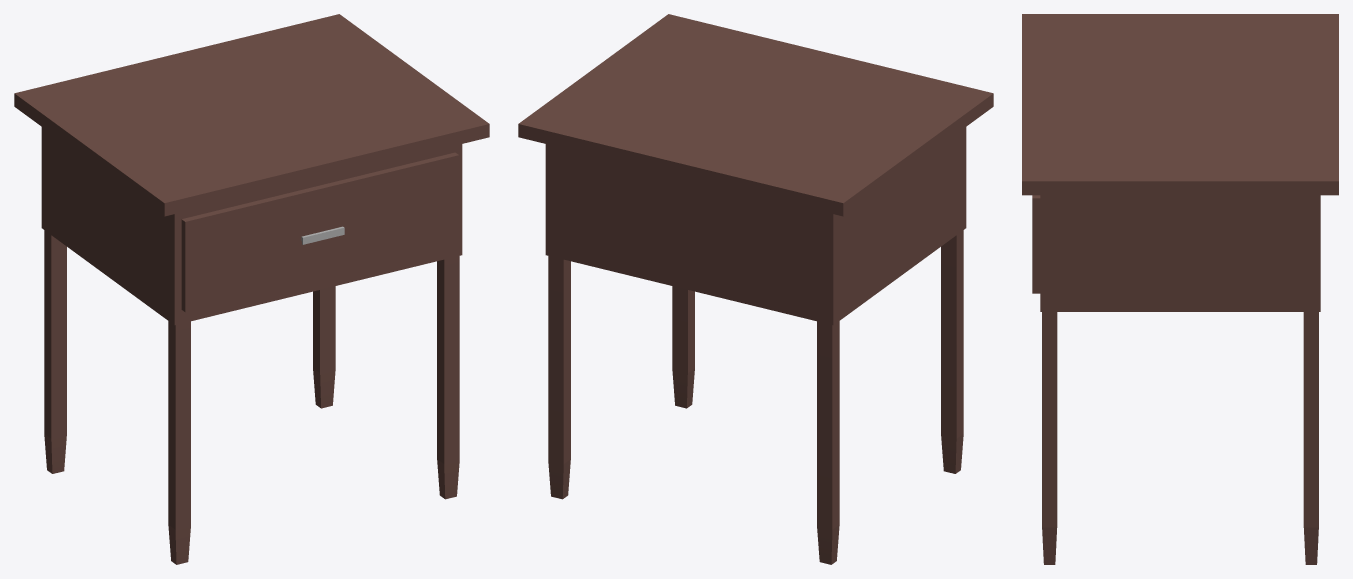
Rendered from Bedroom Nightstand.glb.
3 renders of one model, left to right at view 1: azimuth 30°, elevation 25°; view 2: azimuth 150°, elevation 25°; view 3: azimuth 270°, elevation 25°, orthographic. The views are drawn at different scales.
Parts seen in each view (by area): view 1: Nightstand; view 2: Nightstand; view 3: Nightstand.
Part boxes in pixels (<box>): Nightstand: <box>14,14,489,564</box>; Nightstand: <box>518,14,993,564</box>; Nightstand: <box>1022,14,1338,564</box>.
Size of the model in its own units: 0.7028 by 0.774 by 0.5622.
Materials: 1 (1 with a texture image).
